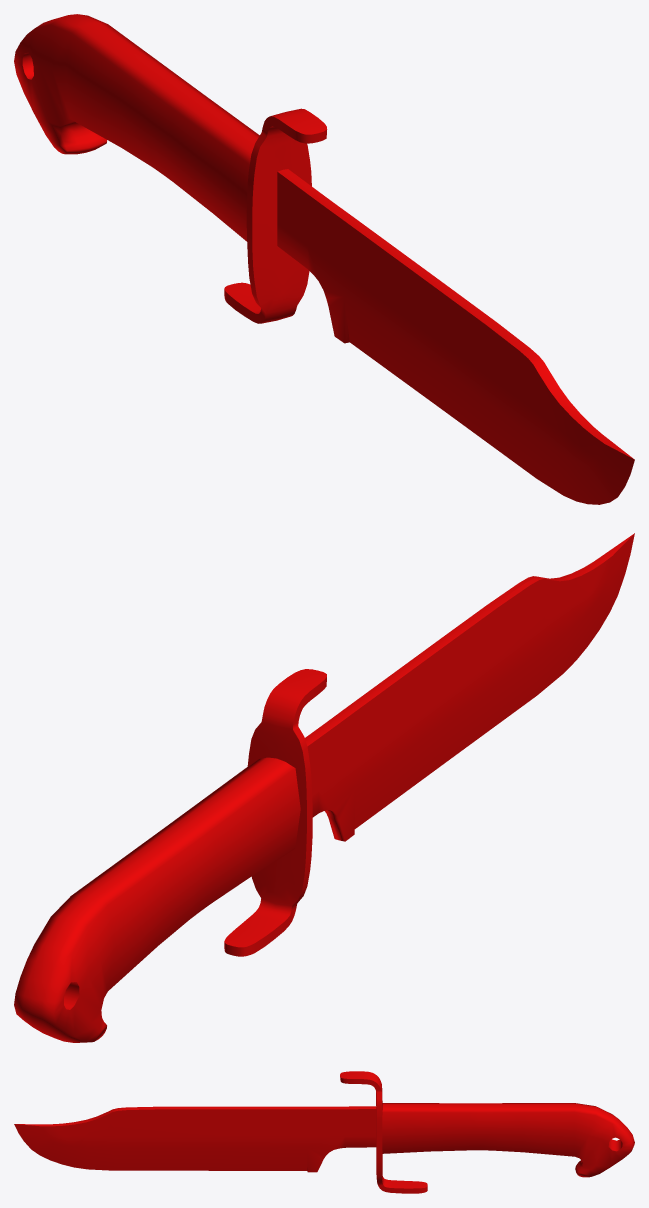
Rendered from knife_bowie_02_low.fbx.
3 views of the same model, one above another, from view 1: azimuth 30°, elevation 25°; view 2: azimuth 150°, elevation 25°; view 3: azimuth 270°, elevation 25° (orthographic). The views are drawn at different scales.
Parts seen in each view (by area): view 1: knife_bowie_02_blade_low, knife_bowie_02_handle_low, knife_bowie_02_guard_low; view 2: knife_bowie_02_blade_low, knife_bowie_02_handle_low, knife_bowie_02_guard_low; view 3: knife_bowie_02_blade_low, knife_bowie_02_handle_low, knife_bowie_02_guard_low.
Boxes of the visible parts, x1=… form: knife_bowie_02_blade_low: x1=277, y1=169, x2=634, y2=504; knife_bowie_02_handle_low: x1=14, y1=14, x2=259, y2=241; knife_bowie_02_guard_low: x1=224, y1=108, x2=327, y2=323; knife_bowie_02_blade_low: x1=305, y1=533, x2=634, y2=841; knife_bowie_02_handle_low: x1=14, y1=757, x2=300, y2=1042; knife_bowie_02_guard_low: x1=224, y1=669, x2=326, y2=956; knife_bowie_02_blade_low: x1=14, y1=1106, x2=376, y2=1172; knife_bowie_02_handle_low: x1=382, y1=1103, x2=634, y2=1177; knife_bowie_02_guard_low: x1=340, y1=1071, x2=427, y2=1193.
Size of the model in its own units: 1.98 by 7.04 by 34.3.
